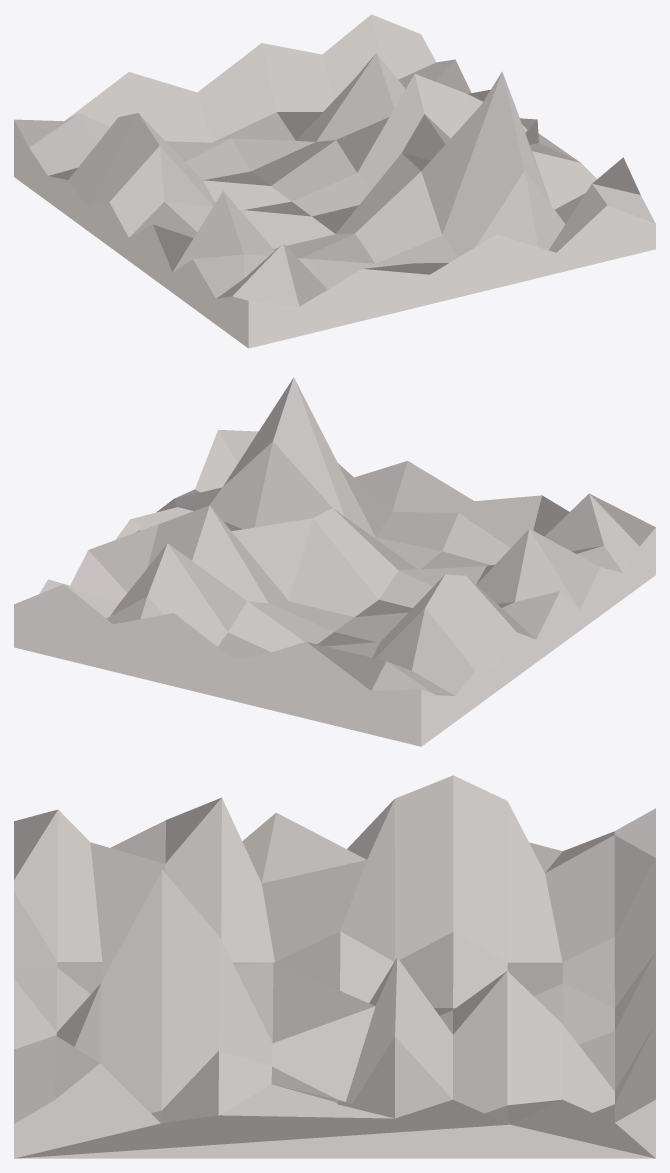
Rendered from Valley.glb.
3 views of the same model, one above another, from view 1: azimuth 30°, elevation 25°; view 2: azimuth 150°, elevation 25°; view 3: azimuth 270°, elevation 25° (orthographic). The views are drawn at different scales.
Visible parts, largest first — view 1: Cube_0; view 2: Cube_0; view 3: Cube_0.
Part boxes in pixels (left/top/right/bottom): Cube_0: left=14, top=14, right=655, bottom=348; Cube_0: left=14, top=377, right=655, bottom=746; Cube_0: left=14, top=775, right=655, bottom=1158.
Bounding box in the file's own units: 16.02 × 6.11 × 15.98.
1 material, 1 textured.
